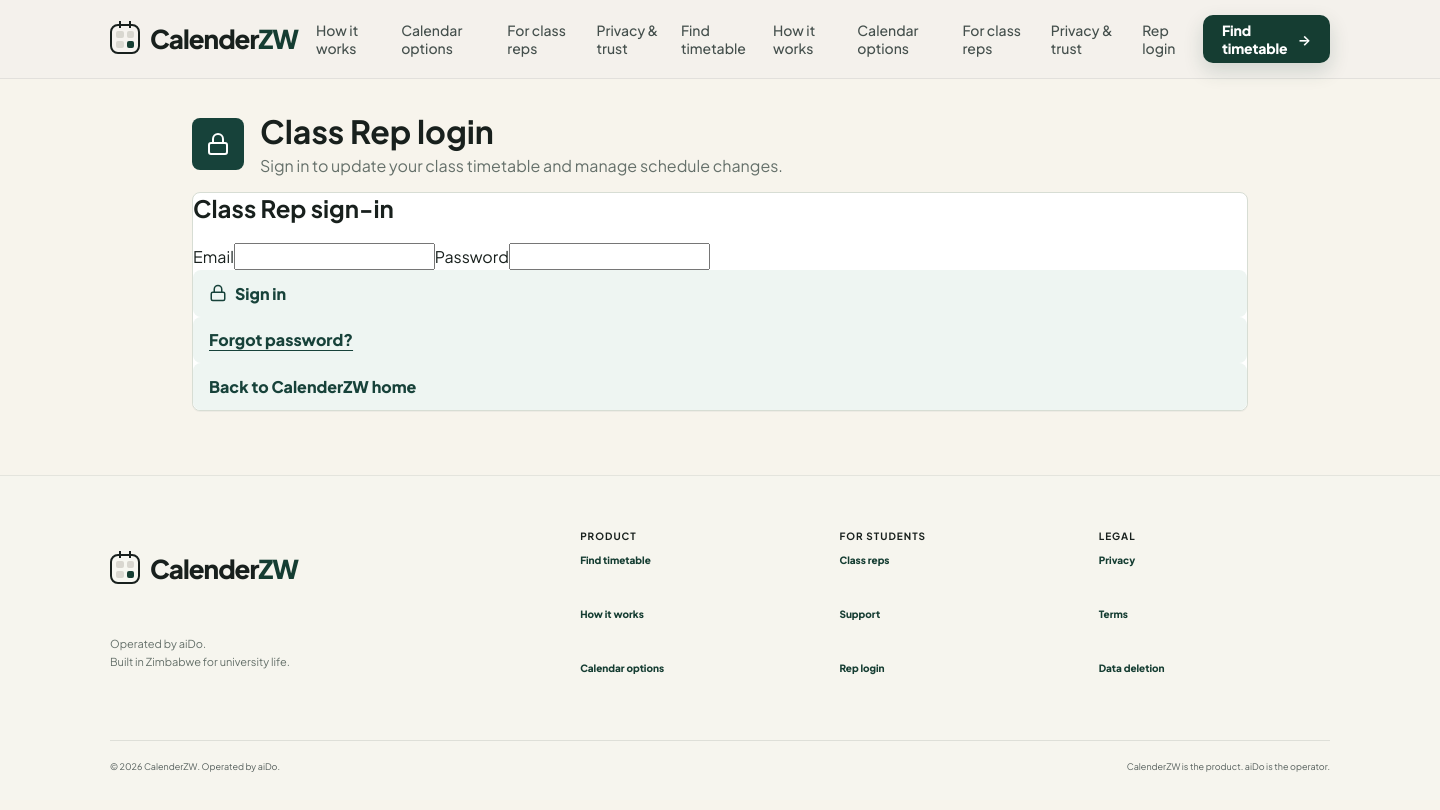
Test: public student flow › shows invalid credentials without revealing account existence
The image size is (1440, 810).
Type "missing@example.test" into the field labelled "Email" at point(334, 256), box 234,243 -> 435,270
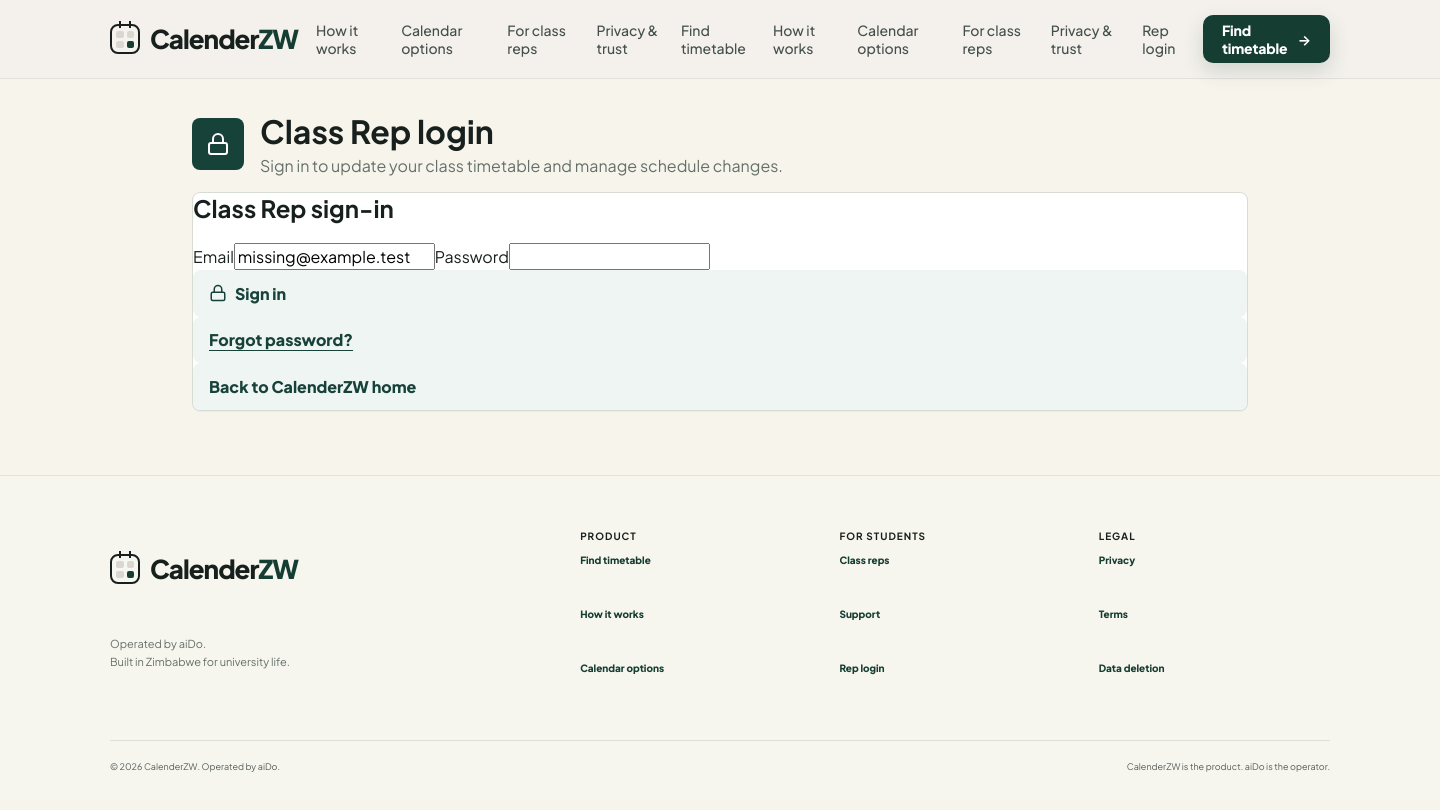
Type "wrong-password" into the password field labelled "Password" at point(609, 256), box 509,243 -> 710,270
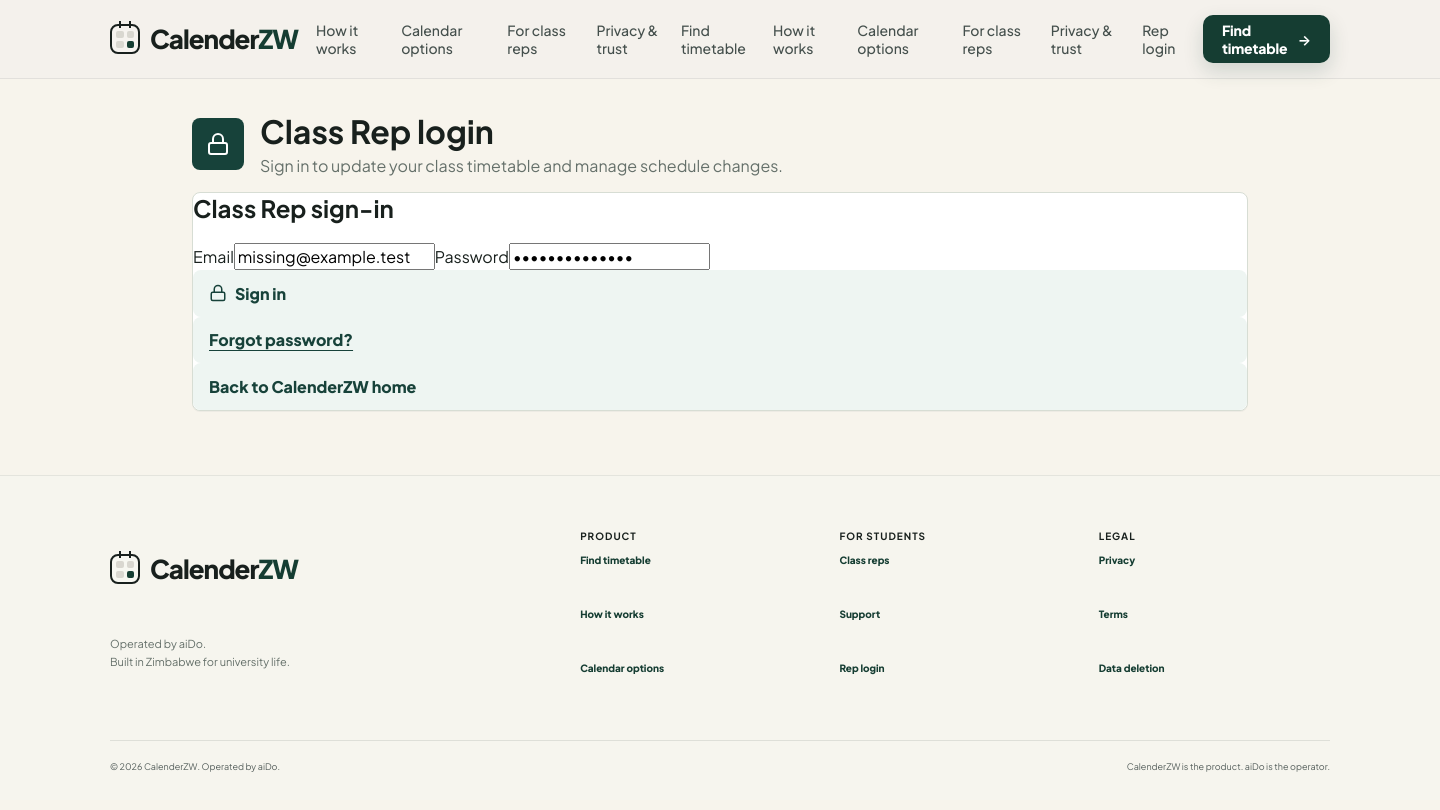
Click the button "Sign in" at point(261, 293), box 193,270 -> 1247,316
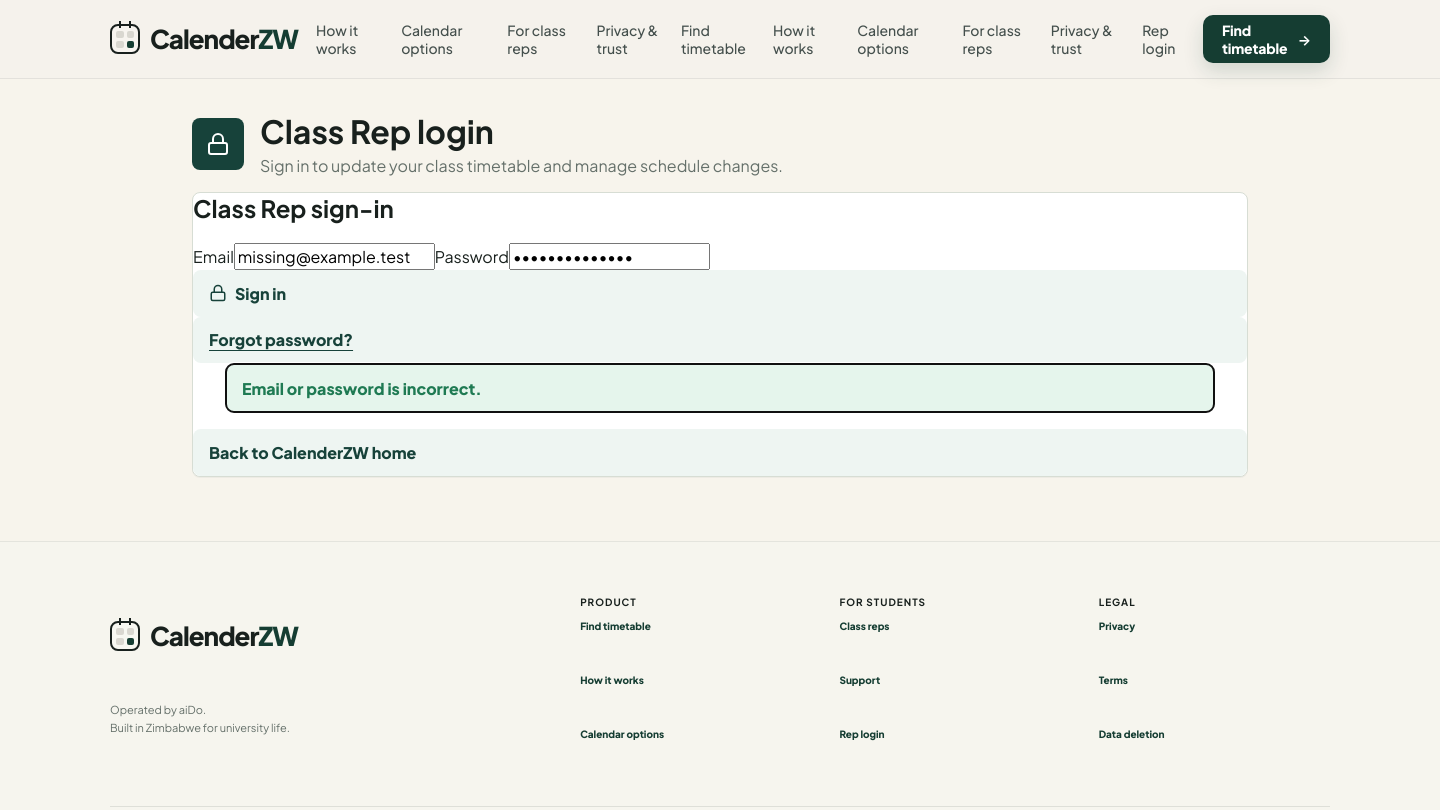
Now the text "Email or password is incorrect." is shown, box 225,363 -> 1215,413
